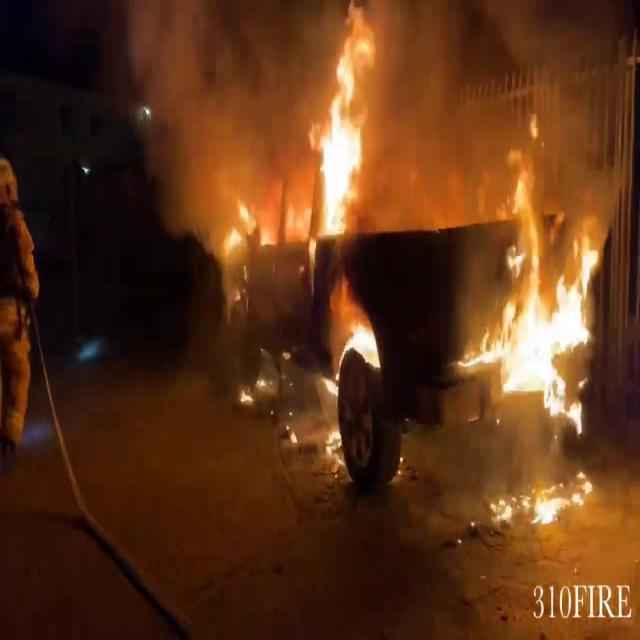Fire: (458, 132, 606, 488)
Smoke: (114, 0, 320, 219)
